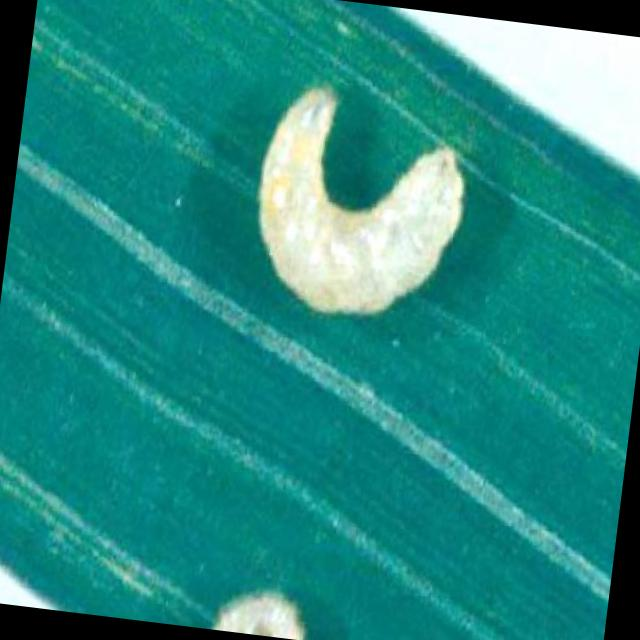whorl-maggot: (240, 65, 483, 343)
